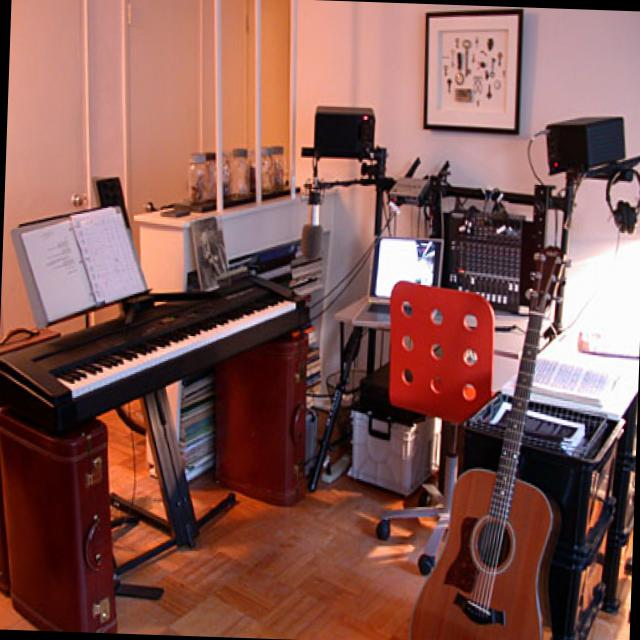box contants: (351, 384, 441, 496)
desk organizer: (467, 280, 640, 640)
flask crop: (190, 150, 220, 205)
floor -X: (0, 306, 637, 640)
furniture toy: (139, 176, 336, 476)
guitar occluded: (413, 244, 569, 640)
headphones: (607, 165, 640, 231), (626, 194, 640, 231)
laptop: (355, 234, 444, 330)
music stand: (12, 199, 152, 328)
notebook: (21, 204, 143, 318)
piano pedels: (0, 266, 308, 574)
picture crop: (424, 7, 524, 132)
suitcase occluded: (0, 402, 120, 630), (214, 327, 309, 504)
swivel chair: (378, 277, 496, 571)
synthesizer: (447, 209, 537, 309)
wall clock: (288, 0, 640, 412), (1, 0, 292, 348)
